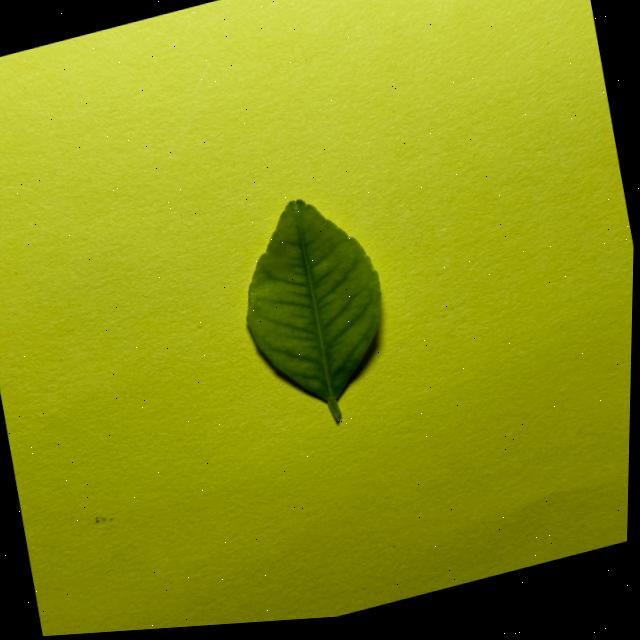greening: (246, 199, 380, 422)
